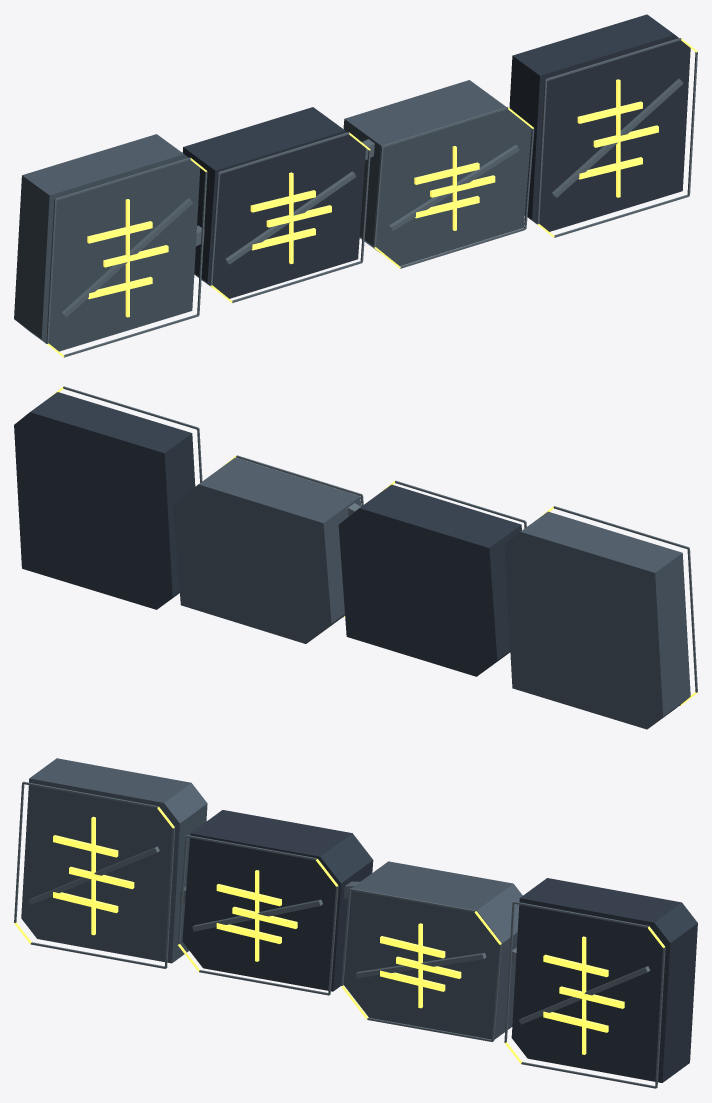
Rendered from altitude_shutter.glb.
The picture shows the model from 3 angles, top to bottom: view 1: azimuth 30°, elevation 25°; view 2: azimuth 150°, elevation 25°; view 3: azimuth 330°, elevation 25°; orthographic projection.
Visible parts, largest first — view 1: altitude_shutter; view 2: altitude_shutter; view 3: altitude_shutter.
Part boxes in pixels (x1,y1,x2,y2): altitude_shutter: (14, 14, 697, 357); altitude_shutter: (14, 386, 697, 729); altitude_shutter: (14, 758, 697, 1088).
Size of the model in its own units: 81.6 by 20.2 by 8.7.
